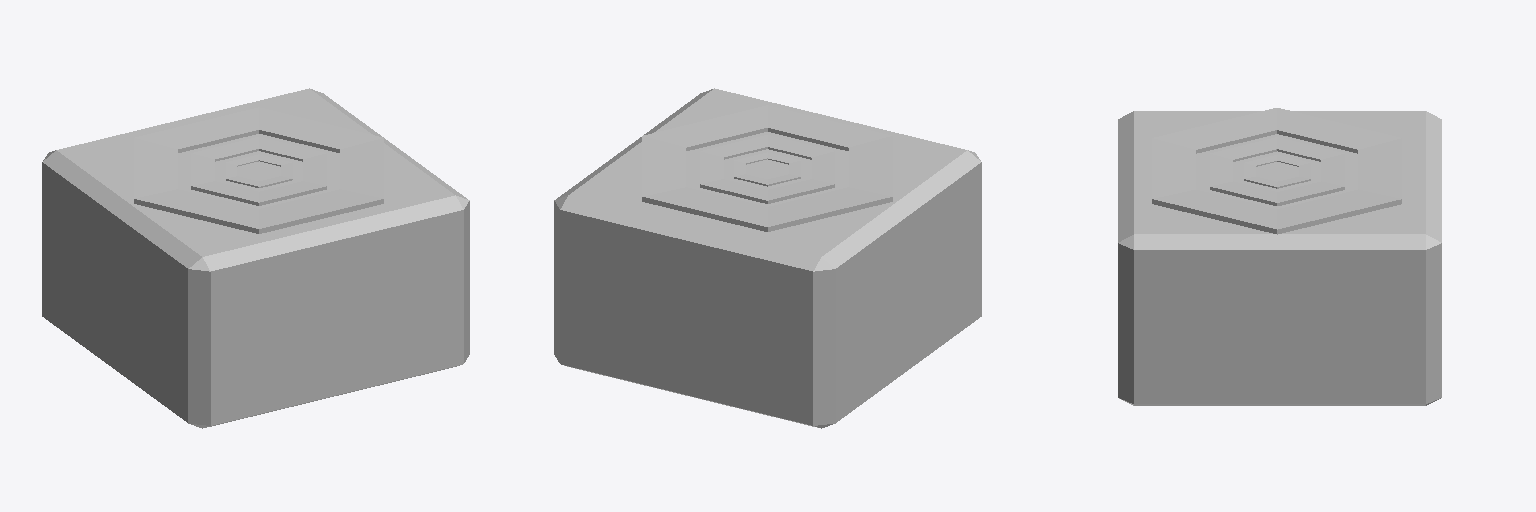
3 views of the same model, side by side, from view 1: azimuth 30°, elevation 25°; view 2: azimuth 150°, elevation 25°; view 3: azimuth 270°, elevation 25° (orthographic).
Visible parts, largest first — view 1: Module_03.004, Module_04.002, Module_04.001, Module_04.003; view 2: Module_03.004, Module_04.002, Module_04.001, Module_04.003; view 3: Module_03.004, Module_04.002, Module_04.001, Module_04.003.
Boxes of the visible parts, x1=… form: Module_03.004: x1=42, y1=88, x2=469, y2=428; Module_04.002: x1=134, y1=107, x2=383, y2=233; Module_04.001: x1=191, y1=137, x2=326, y2=205; Module_04.003: x1=226, y1=154, x2=292, y2=187; Module_03.004: x1=554, y1=88, x2=981, y2=428; Module_04.002: x1=642, y1=105, x2=892, y2=231; Module_04.001: x1=700, y1=135, x2=834, y2=203; Module_04.003: x1=734, y1=152, x2=800, y2=186; Module_03.004: x1=1118, y1=111, x2=1441, y2=405; Module_04.002: x1=1152, y1=108, x2=1401, y2=234; Module_04.001: x1=1210, y1=137, x2=1344, y2=205; Module_04.003: x1=1244, y1=155, x2=1310, y2=188.
Bounding box in the file's own units: 0.9 × 0.5402 × 0.9.